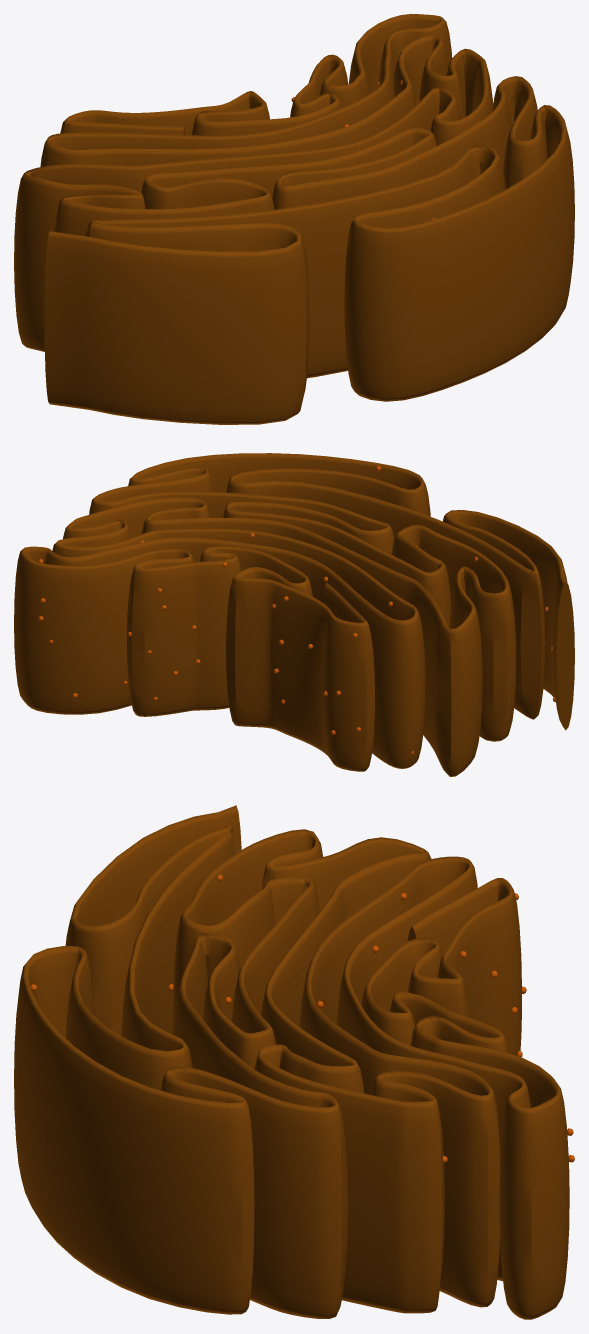
File: Ribosomes.fbx
3 renders of one model, top to bottom at view 1: azimuth 30°, elevation 25°; view 2: azimuth 150°, elevation 25°; view 3: azimuth 270°, elevation 25°, orthographic. The views are drawn at different scales.
Parts seen in each view (by area): view 1: xgPrim21_description6; view 2: xgPrim21_description6; view 3: xgPrim21_description6.
Boxes of the visible parts, left/top/right/bottom form: xgPrim21_description6: left=14, top=14, right=574, bottom=424; xgPrim21_description6: left=14, top=453, right=574, bottom=776; xgPrim21_description6: left=14, top=805, right=574, bottom=1319.
Size of the model in its own units: 19.02 by 6.55 by 14.29.
